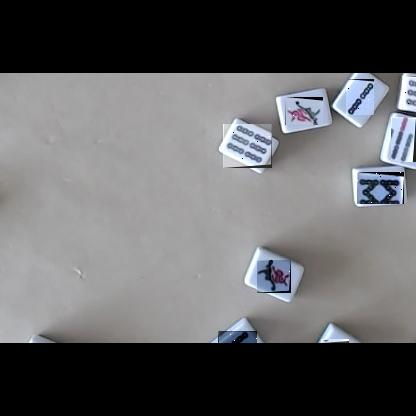1s: (257, 260, 291, 293), (285, 97, 323, 125)
2s: (346, 79, 374, 115), (321, 339, 349, 343)
3s: (218, 331, 257, 343)
6s: (223, 124, 272, 168), (402, 76, 416, 109)
7s: (391, 117, 416, 162)
8s: (357, 172, 404, 204)
